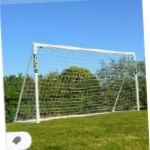goals: (14, 40, 143, 123)
